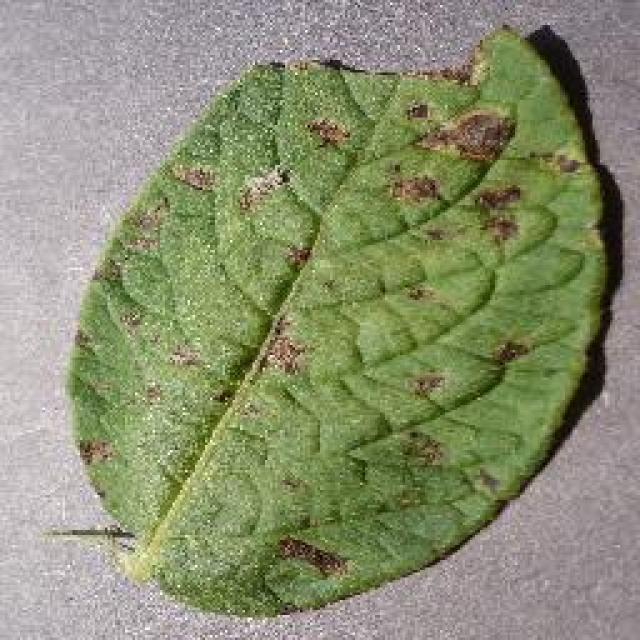early_blight: (58, 20, 618, 622)
